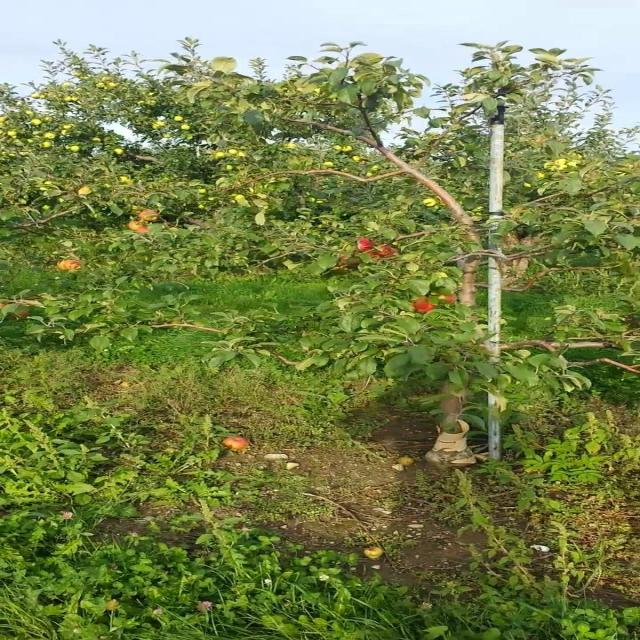apple: (440, 420, 469, 435), (56, 260, 82, 272), (376, 244, 398, 258), (412, 300, 434, 313), (340, 256, 363, 267), (362, 240, 377, 252), (141, 212, 160, 221), (440, 296, 455, 304), (127, 224, 140, 230), (20, 312, 28, 319), (141, 228, 149, 232)
